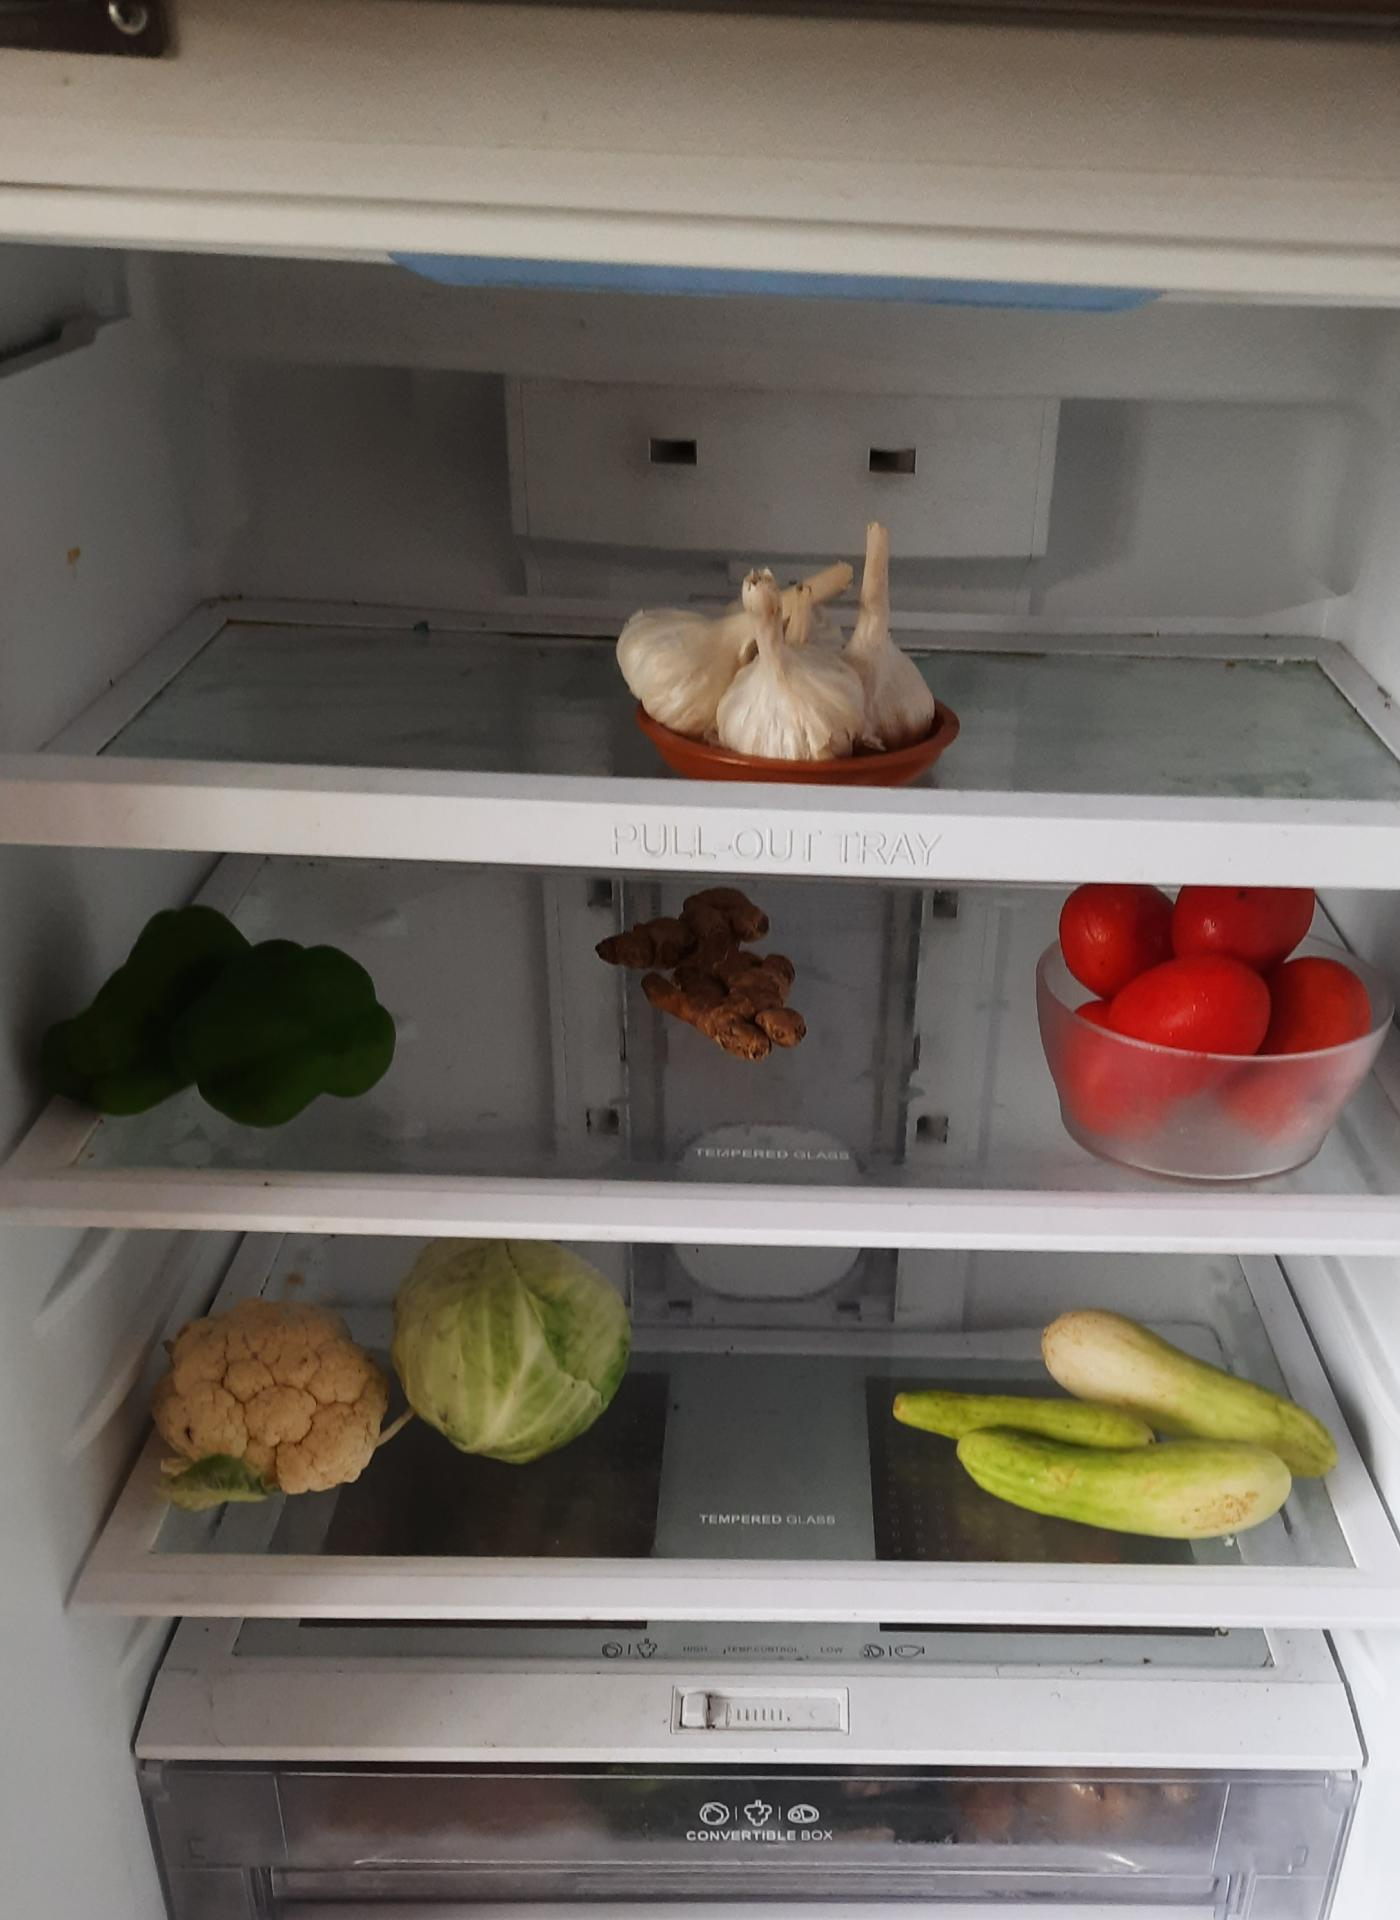cabbage: (383, 1236, 628, 1459)
capsicum: (27, 890, 426, 1134)
cauliflower: (109, 1273, 401, 1488)
cucumber: (893, 1301, 1355, 1567)
garlic: (607, 574, 972, 757)
ginger: (593, 878, 839, 1091)
tomato: (1024, 863, 1393, 1181)
